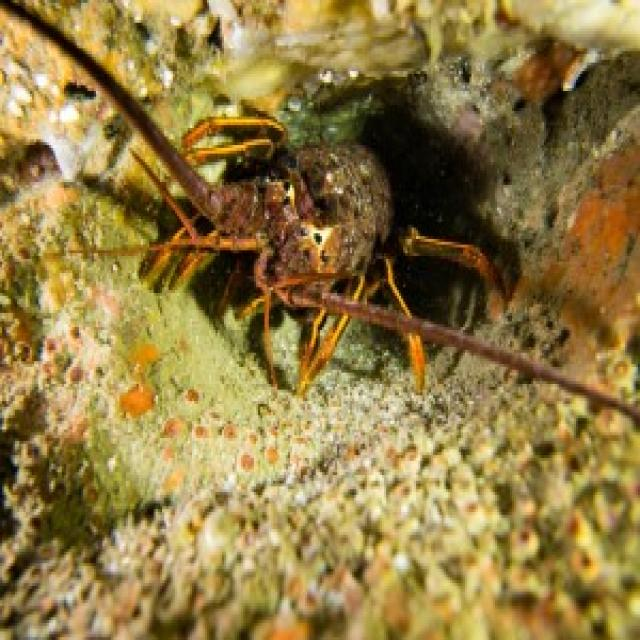lobsters: (87, 48, 564, 470)
